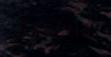five: (28, 18, 38, 36)
four: (61, 20, 71, 37)
one: (50, 19, 60, 37), (72, 20, 82, 38)
six: (39, 19, 49, 36)
zero: (17, 18, 27, 35), (83, 21, 93, 38)
